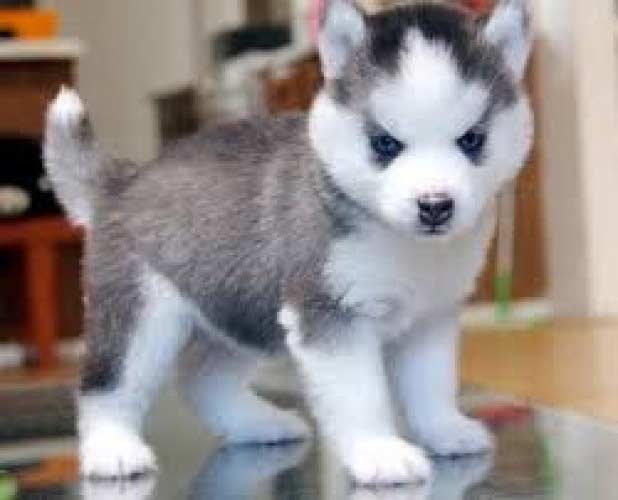husky: (295, 10, 564, 262)
